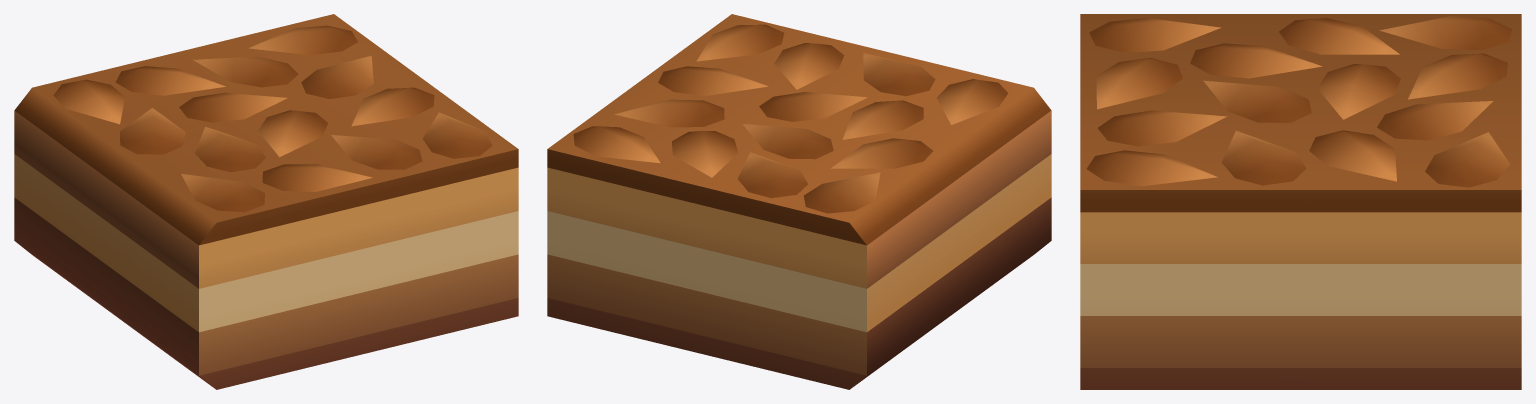
Rendered from m_Bienenstich02_Slice02.fbx.
3 renders of one model, left to right at view 1: azimuth 30°, elevation 25°; view 2: azimuth 150°, elevation 25°; view 3: azimuth 270°, elevation 25°, orthographic. The views are drawn at different scales.
Visible parts, largest first — view 1: m_Bienenstich02_Slice02; view 2: m_Bienenstich02_Slice02; view 3: m_Bienenstich02_Slice02.
Boxes of the visible parts, x1,y1,x2,y2 form: m_Bienenstich02_Slice02: (14,14,518,389); m_Bienenstich02_Slice02: (547,14,1051,389); m_Bienenstich02_Slice02: (1080,14,1521,389).
Bounding box in the file's own units: 10 × 5.3 × 10.
